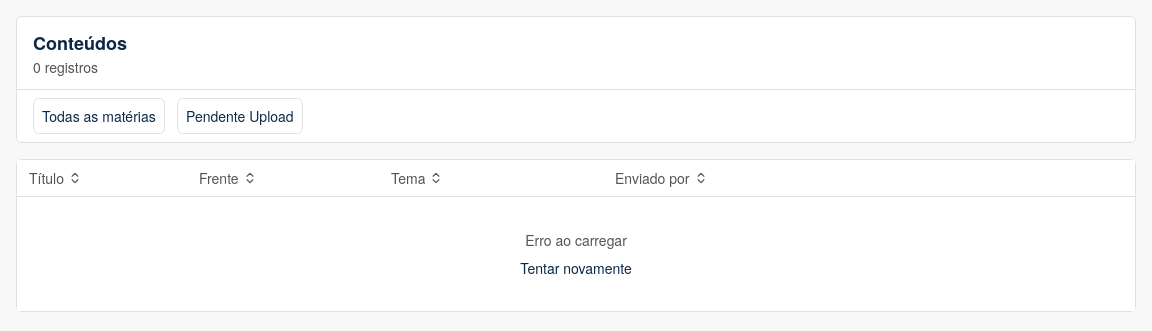
Test case: DashContent (dashV2) › erro ao carregar mostra o erro, e tentar de novo refaz a busca
The width and height of the screenshot is (1152, 331).
Click the button "Tentar novamente".
click(576, 268)  # box [520, 258, 632, 278]
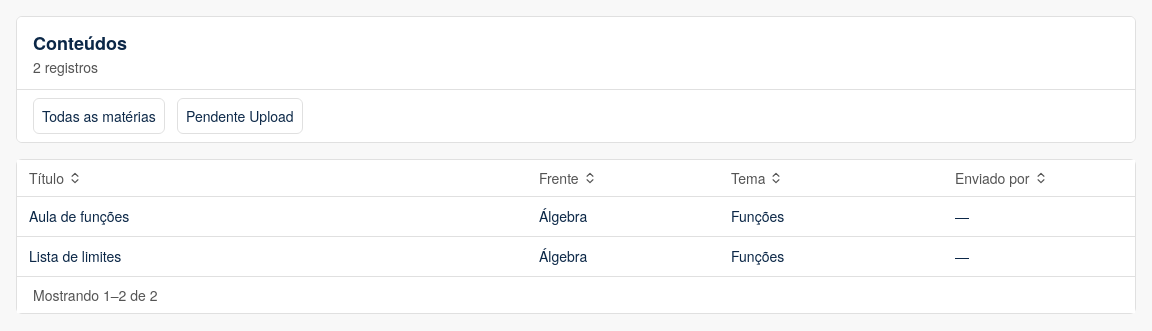
Result: the button "Aula de funções" is shown at [29, 206, 515, 226]
